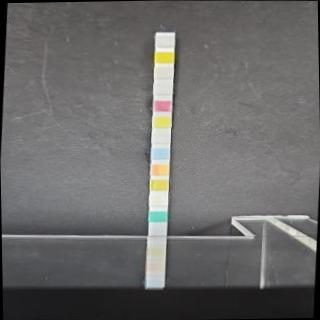mark: (151, 115, 172, 128), (149, 162, 169, 175), (154, 67, 173, 80), (151, 131, 170, 144), (155, 36, 175, 48), (152, 100, 172, 112), (148, 194, 168, 206), (152, 147, 170, 160), (154, 52, 173, 64), (149, 178, 168, 190), (148, 210, 167, 222), (154, 83, 172, 95)
